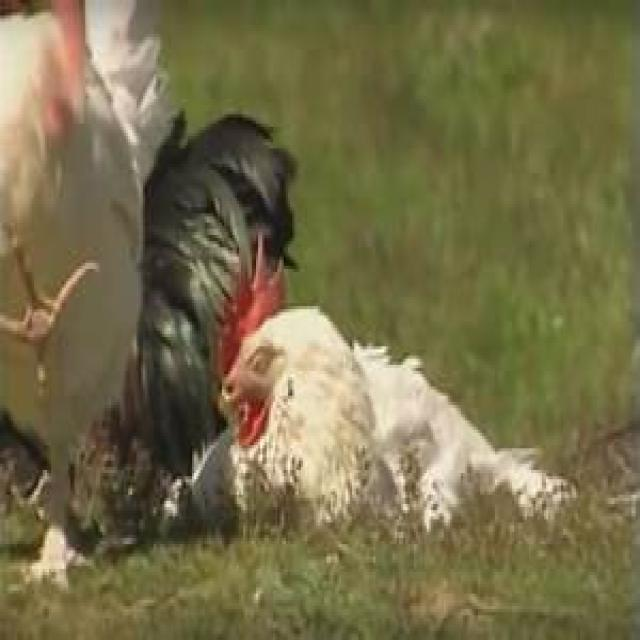hen: (0, 4, 172, 581), (221, 308, 574, 528)
